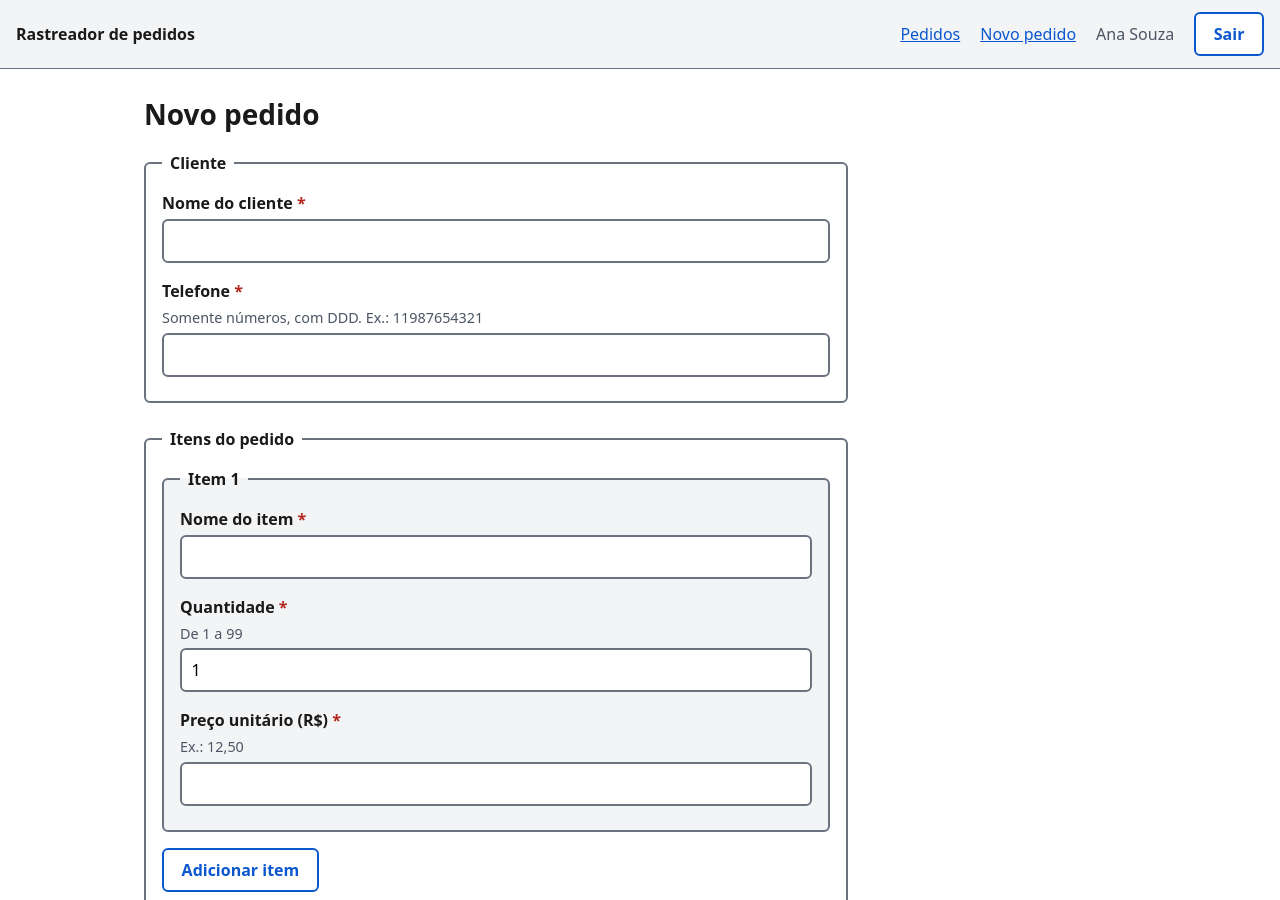
Test: NewOrderPage › anuncia e move o foco ao adicionar e remover itens
expect the heading "Novo pedido" is shown: met, box top-left (144, 95), bottom-right (320, 133)
expect the button "Remover item" is not shown: met
Click the button "Adicionar item".
click(240, 870)  # box top-left (162, 848), bottom-right (319, 892)
(page scrolled)
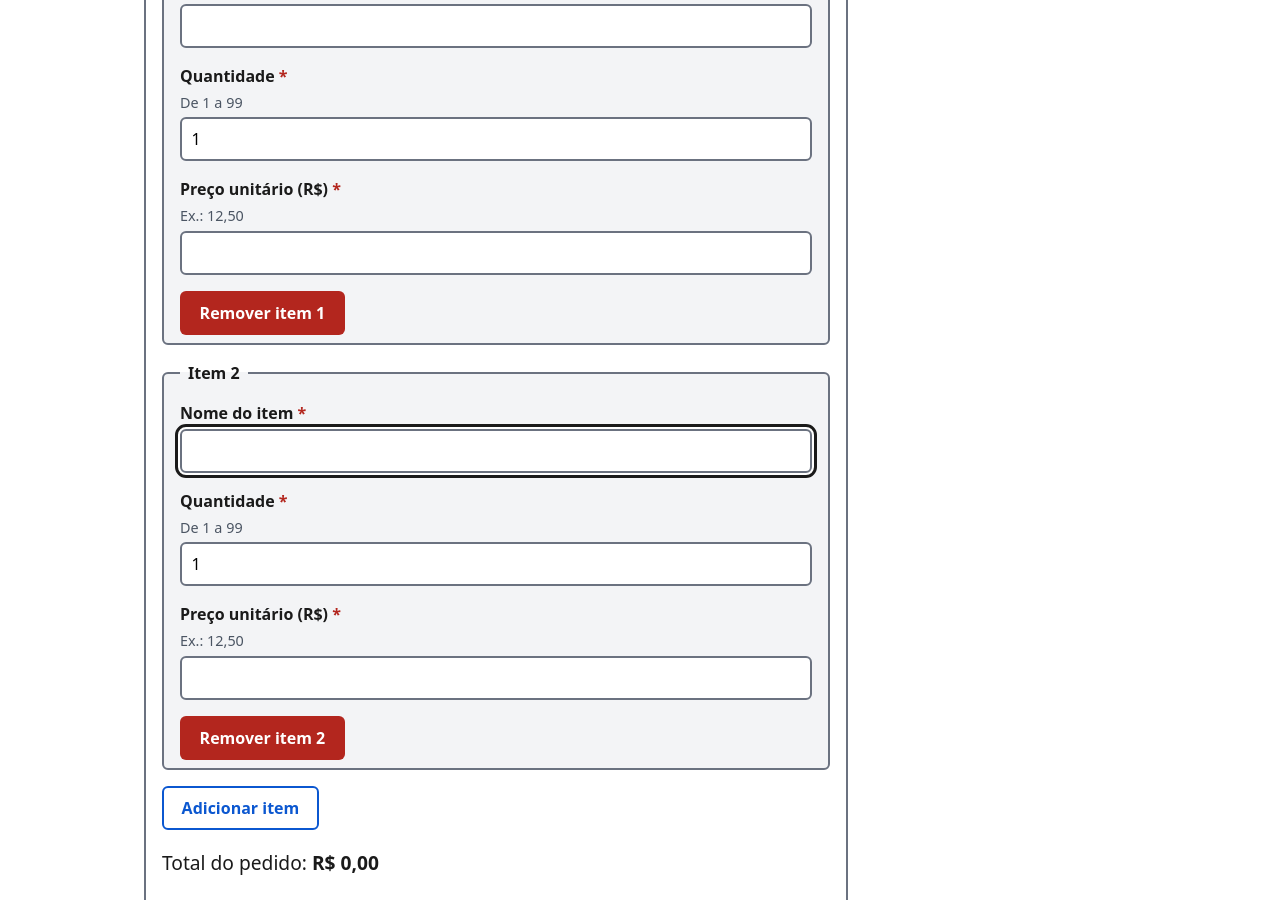
Click the button "Remover item 2".
click(262, 738)  # box top-left (180, 716), bottom-right (345, 760)
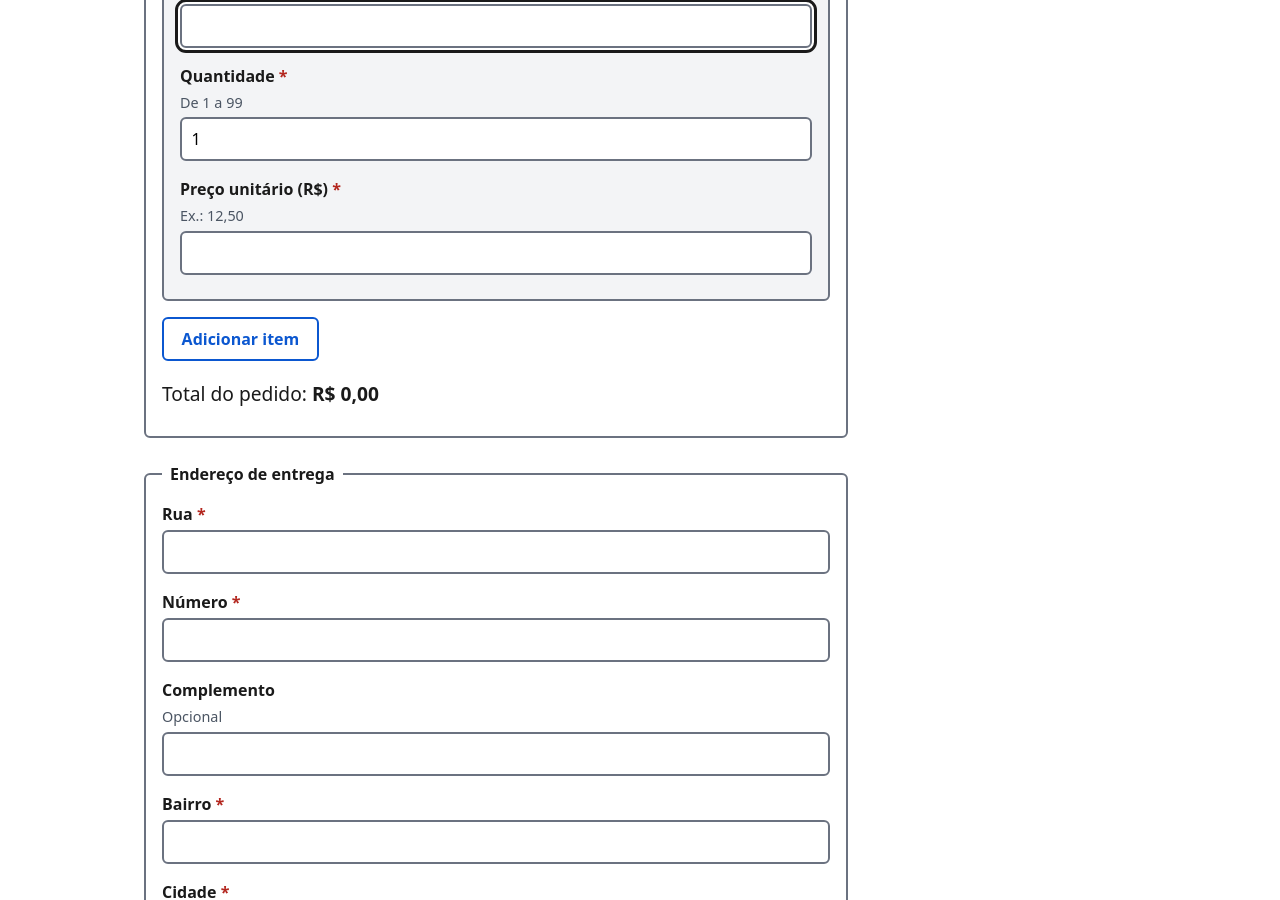
expect the text "Item 2" is gone: met
